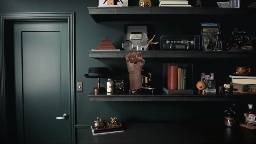Pugno: (124, 50, 146, 70)
